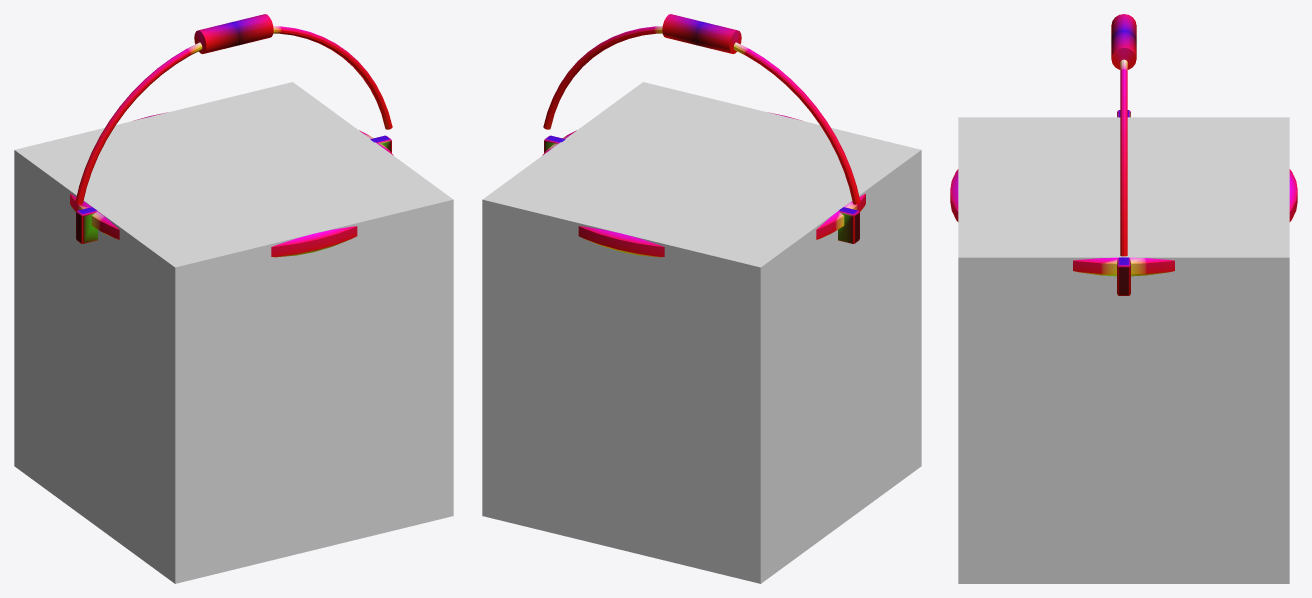
File: prop_bucket.fbx
3 views of the same model, side by side, from view 1: azimuth 30°, elevation 25°; view 2: azimuth 150°, elevation 25°; view 3: azimuth 270°, elevation 25° (orthographic). The views are drawn at different scales.
Visible parts, largest first — view 1: COL_0, prop_bucket; view 2: COL_0, prop_bucket; view 3: COL_0, prop_bucket.
Boxes of the visible parts, x1,y1,x2,y2 form: COL_0: (14, 82, 453, 583); prop_bucket: (70, 14, 393, 257); COL_0: (482, 82, 921, 583); prop_bucket: (542, 14, 865, 257); COL_0: (958, 117, 1289, 583); prop_bucket: (950, 14, 1297, 295).
Size of the model in its own units: 0.3296 by 0.466 by 0.304.
